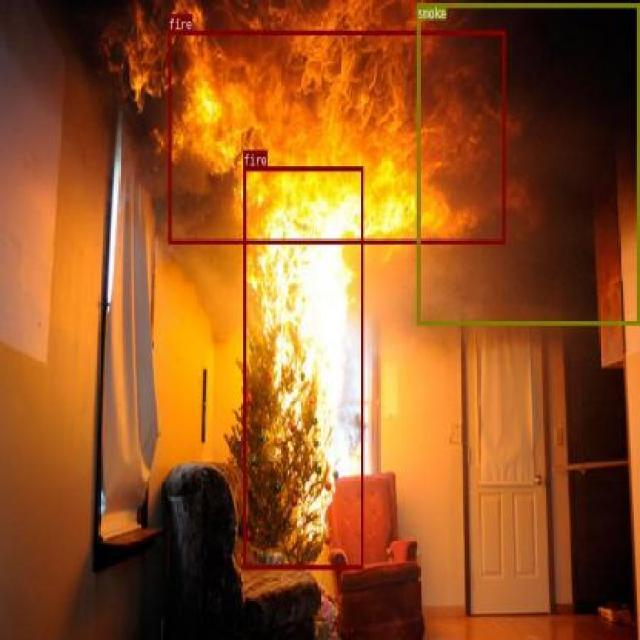fire: (168, 29, 504, 242), (242, 166, 362, 568)
smoke: (416, 2, 638, 324)
